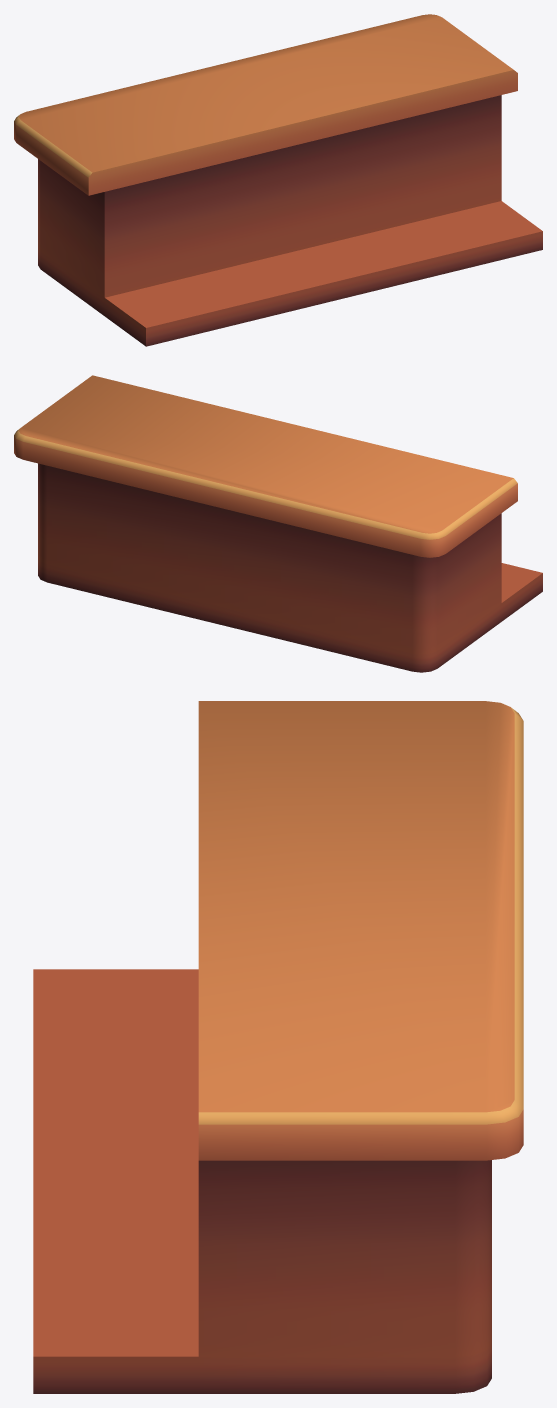
File: Bar_desk_01.fbx
The picture shows the model from 3 angles, top to bottom: view 1: azimuth 30°, elevation 25°; view 2: azimuth 150°, elevation 25°; view 3: azimuth 270°, elevation 25°; orthographic projection. The views are drawn at different scales.
Parts seen in each view (by area): view 1: Bar_desk_01; view 2: Bar_desk_01; view 3: Bar_desk_01.
Boxes of the visible parts, left/top/right/bottom form: Bar_desk_01: left=14, top=14, right=542, bottom=346; Bar_desk_01: left=14, top=375, right=542, bottom=672; Bar_desk_01: left=33, top=701, right=523, bottom=1393.
Size of the model in its own units: 2.7 by 1.34 by 0.8834.
